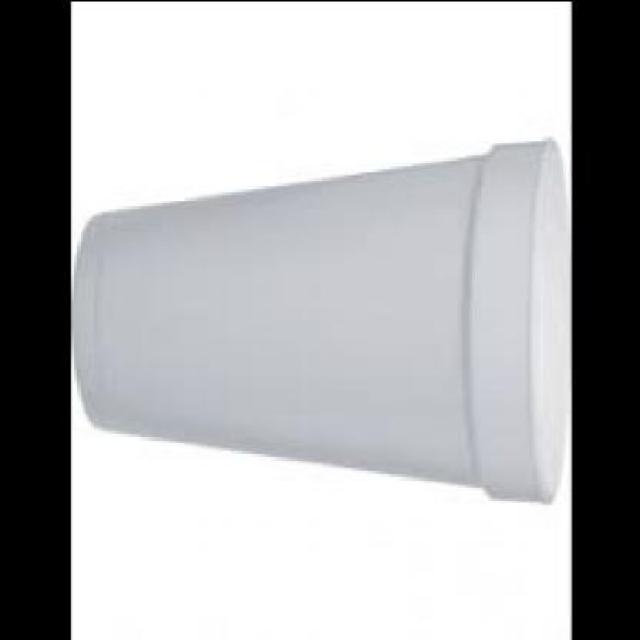PAPER: (73, 143, 578, 506)
